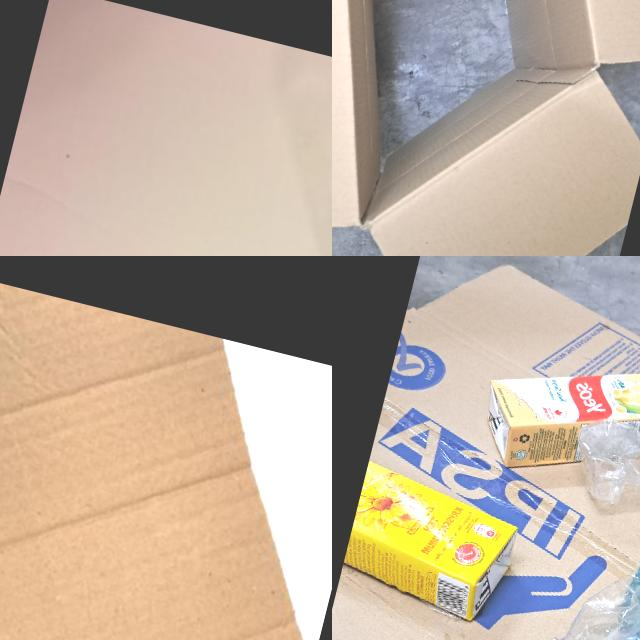caixinha: (338, 460, 528, 628), (471, 335, 640, 503)
garrafa plástica: (562, 410, 640, 554)
papelão: (0, 256, 332, 640), (332, 256, 640, 640), (332, 0, 640, 256)
